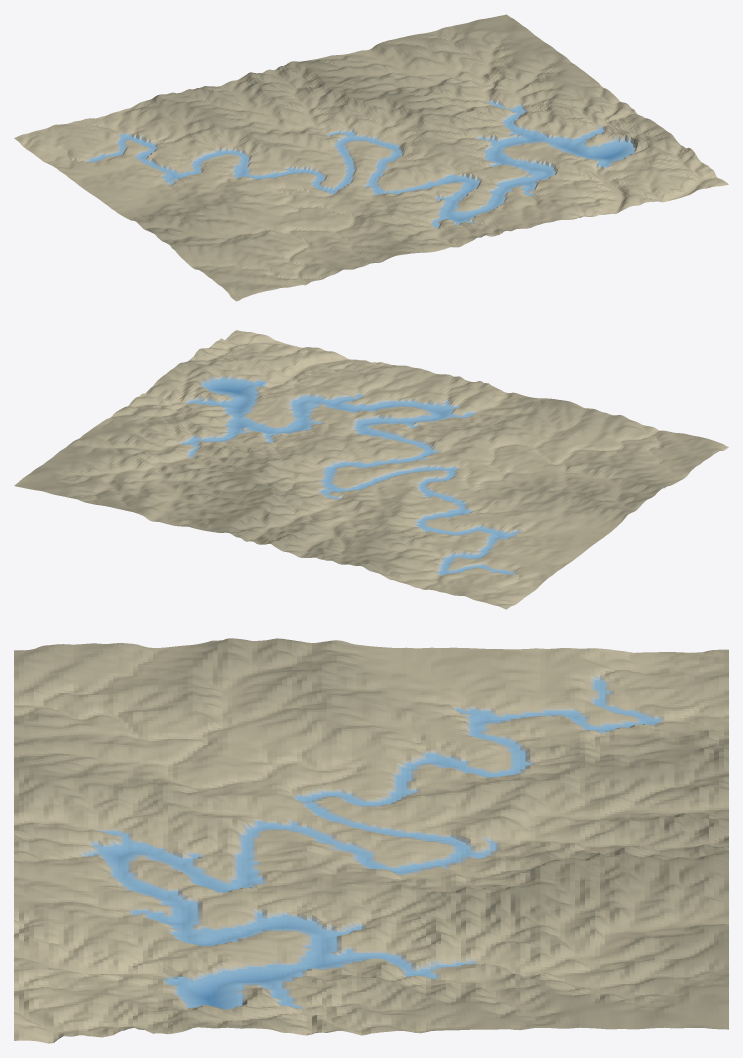
Rendered from lake_travis_tx.glb.
The picture shows the model from 3 angles, top to bottom: view 1: azimuth 30°, elevation 25°; view 2: azimuth 150°, elevation 25°; view 3: azimuth 270°, elevation 25°; orthographic projection. The views are drawn at different scales.
Parts seen in each view (by area): view 1: terrain, water; view 2: terrain, water; view 3: terrain, water.
Boxes of the visible parts, x1,y1,x2,y2 form: terrain: [14, 14, 728, 301]; water: [89, 102, 634, 226]; terrain: [14, 330, 728, 609]; water: [182, 378, 518, 575]; terrain: [14, 638, 728, 1043]; water: [88, 680, 659, 1009].
Bounding box in the file's own units: 31914 × 962 × 24995.
